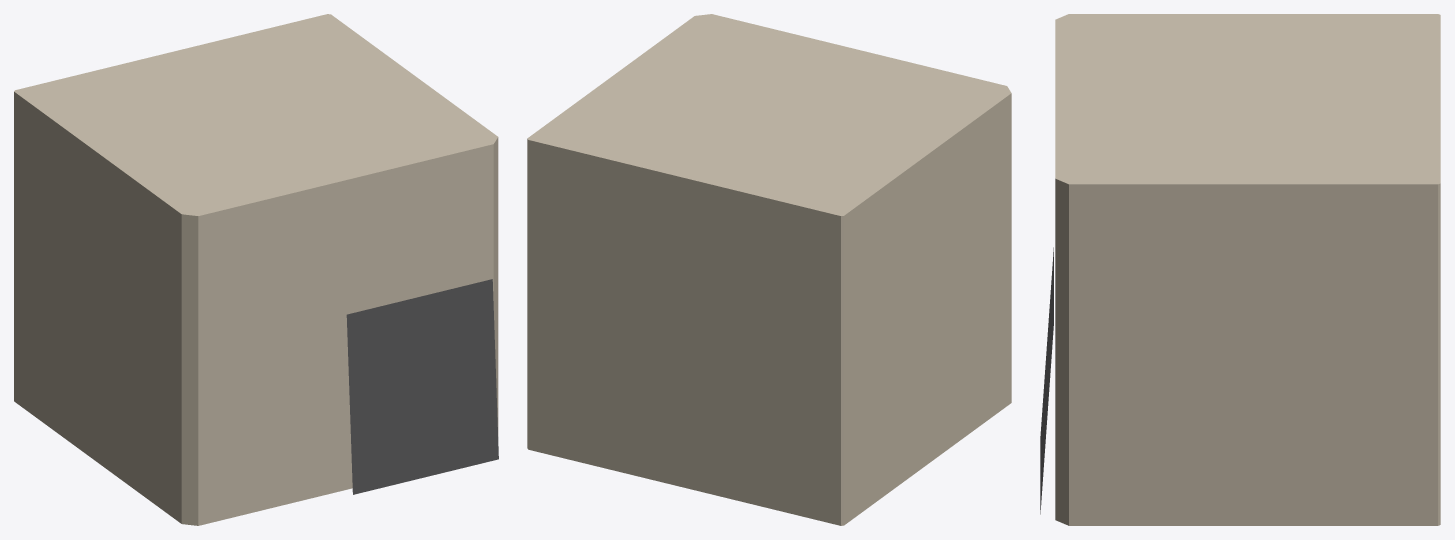
Rendered from loin-etape-1.glb.
The picture shows the model from 3 angles, left to right: view 1: azimuth 30°, elevation 25°; view 2: azimuth 150°, elevation 25°; view 3: azimuth 270°, elevation 25°; orthographic projection. The views are drawn at different scales.
Visible parts, largest first — view 1: loin; view 2: loin; view 3: loin.
Boxes of the visible parts, <box> form: loin: <box>14,14,498,525</box>; loin: <box>527,14,1011,525</box>; loin: <box>1040,14,1440,525</box>.
Bounding box in the file's own units: 0.7966 × 0.7443 × 0.7913.
